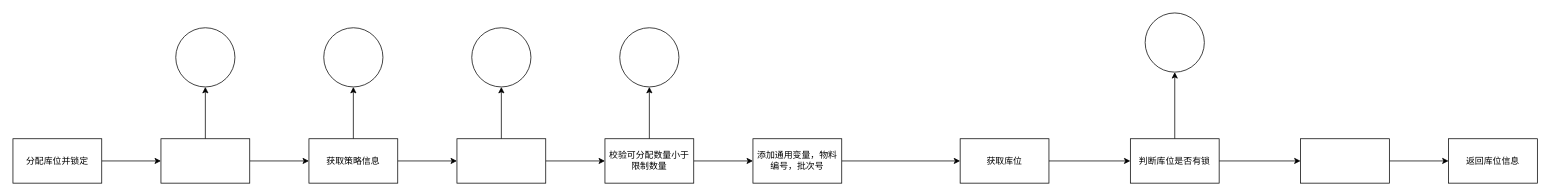
The diagram is 1550 pixels wide and 196 high, and some of its shapes have lost their labels. The shapes that lost their labels are listed below. From the top down, each one's box as (x1, y1, x2, y2) in pixels, then its label:
(160, 138, 250, 183): 校验托盘号
(456, 138, 546, 183): 校验策略存不存在
(1300, 138, 1389, 183): 库位加锁
